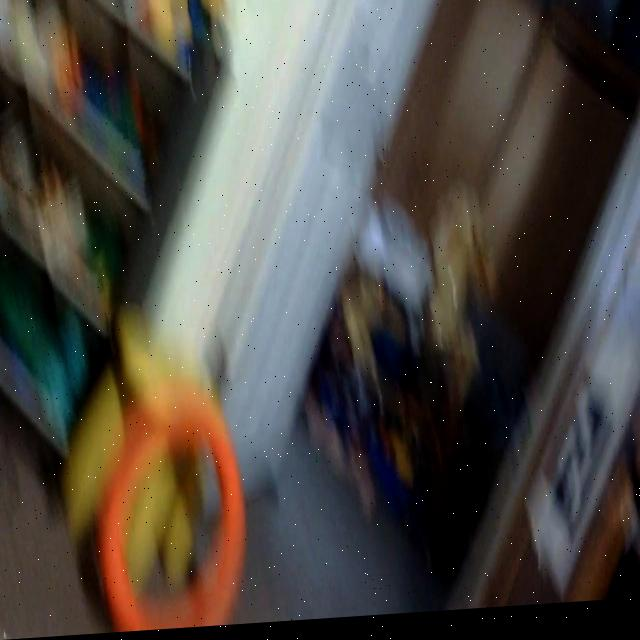note: (96, 389, 246, 635)
